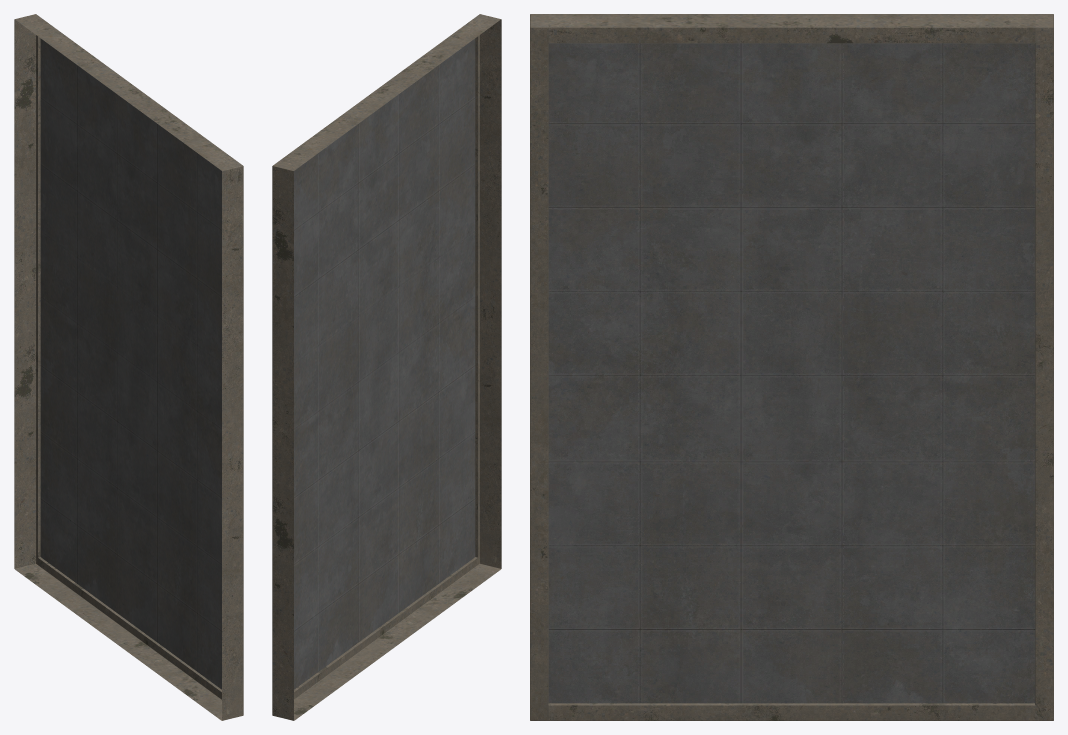
Rendered from cP_BasketballCourt02.dae.
3 views of the same model, side by side, from view 1: azimuth 30°, elevation 25°; view 2: azimuth 150°, elevation 25°; view 3: azimuth 270°, elevation 25° (orthographic). The views are drawn at different scales.
Parts seen in each view (by area): view 1: cP_BasketballCourt02.001; view 2: cP_BasketballCourt02.001; view 3: cP_BasketballCourt02.001.
Boxes of the visible parts, x1=… form: cP_BasketballCourt02.001: x1=14, y1=14, x2=243, y2=720; cP_BasketballCourt02.001: x1=272, y1=14, x2=501, y2=720; cP_BasketballCourt02.001: x1=530, y1=14, x2=1053, y2=720.
Size of the model in its own units: 0.5201 by 8.61 by 12.58.
